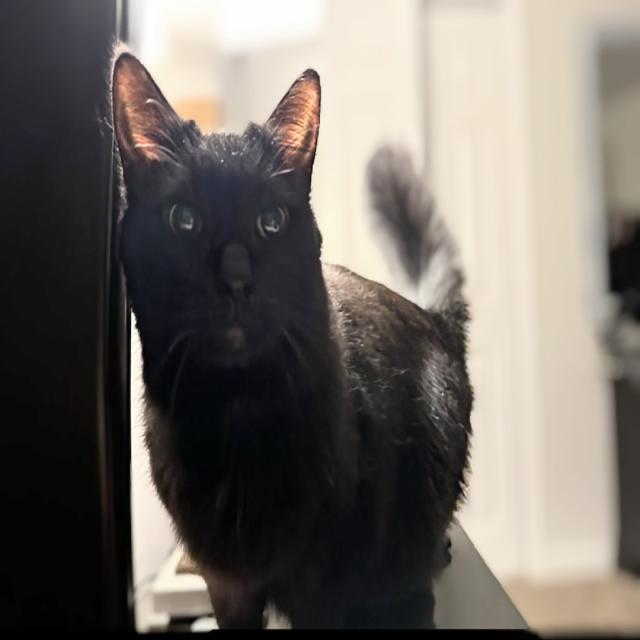maine_coon_cat: (91, 35, 362, 445)
